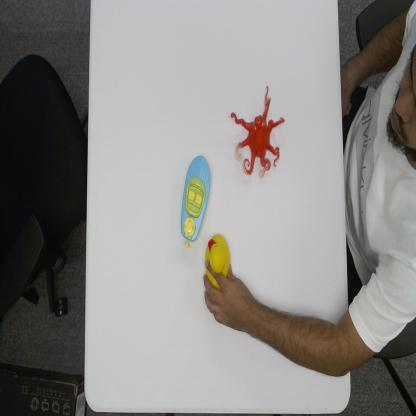Arm: (256, 287, 399, 383)
Boat: (180, 153, 212, 250)
Duck: (206, 231, 230, 281)
Hand: (202, 259, 249, 331)
Octopus: (230, 85, 285, 179)
